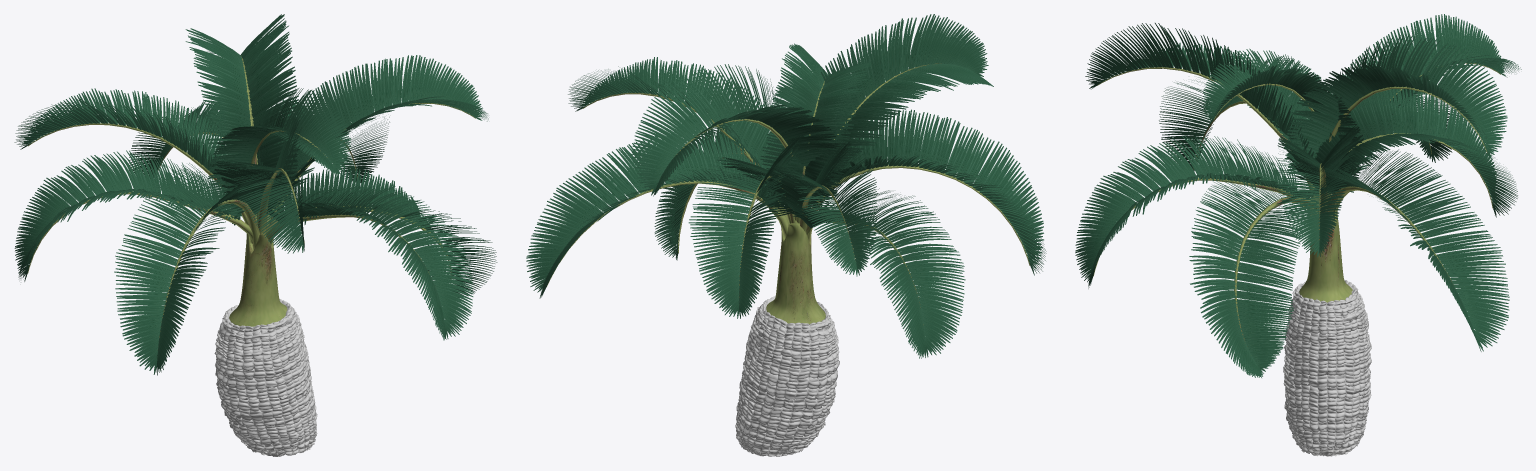
The picture shows the model from 3 angles, left to right: view 1: azimuth 30°, elevation 25°; view 2: azimuth 150°, elevation 25°; view 3: azimuth 270°, elevation 25°; orthographic projection. The views are drawn at different scales.
Visible parts, largest first — view 1: Leaves, Root, LeavesBranch, Trunk; view 2: Leaves, Root, Trunk, LeavesBranch; view 3: Leaves, Root, LeavesBranch, Trunk.
Part boxes in pixels (x1=…): Leaves: x1=14, y1=14, x2=497, y2=375; Root: x1=214, y1=299, x2=317, y2=456; LeavesBranch: x1=27, y1=55, x2=475, y2=350; Trunk: x1=229, y1=233, x2=287, y2=326; Leaves: x1=526, y1=14, x2=1046, y2=358; Root: x1=735, y1=296, x2=839, y2=456; Trunk: x1=766, y1=223, x2=825, y2=324; LeavesBranch: x1=547, y1=63, x2=1029, y2=324; Leaves: x1=1075, y1=14, x2=1521, y2=377; Root: x1=1283, y1=280, x2=1371, y2=456; LeavesBranch: x1=1093, y1=63, x2=1500, y2=346; Trunk: x1=1299, y1=191, x2=1352, y2=302.
Size of the model in its own units: 96.9 by 84.26 by 86.17.
